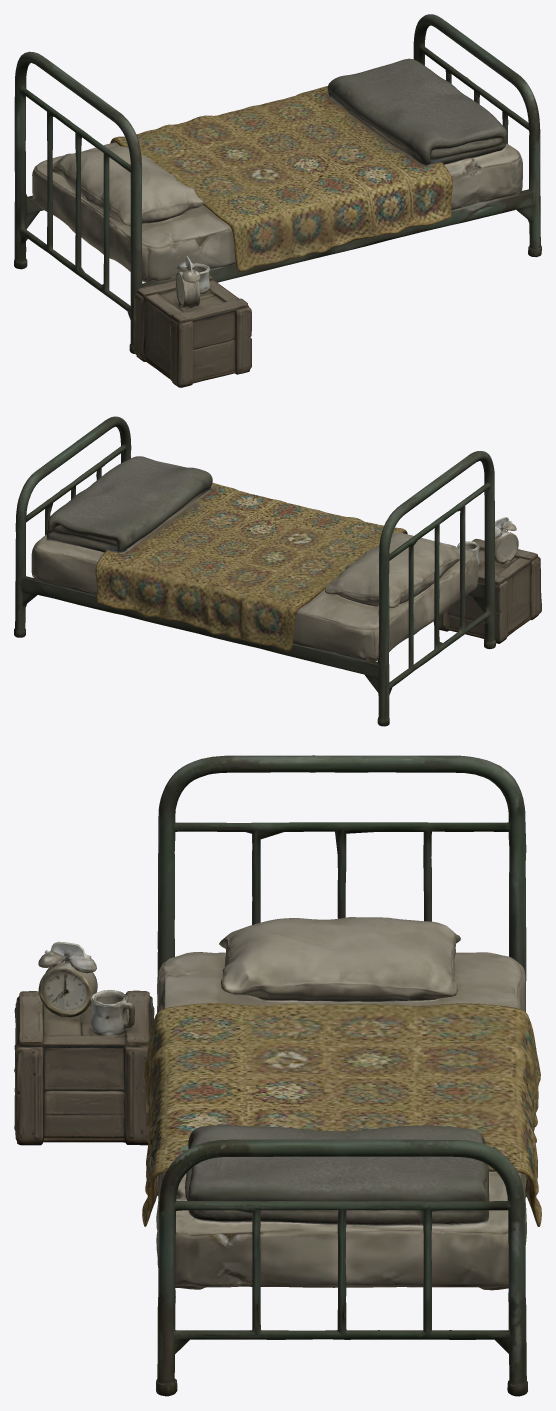
The model's file is silo81_bed_player.glb.
The picture shows the model from 3 angles, top to bottom: view 1: azimuth 30°, elevation 25°; view 2: azimuth 150°, elevation 25°; view 3: azimuth 270°, elevation 25°; orthographic projection. The views are drawn at different scales.
Parts seen in each view (by area): view 1: tripo_node_1223e4af-a2e3-4a61-a090-3dd78ad5f2c2; view 2: tripo_node_1223e4af-a2e3-4a61-a090-3dd78ad5f2c2; view 3: tripo_node_1223e4af-a2e3-4a61-a090-3dd78ad5f2c2.
Boxes of the visible parts, x1,y1,x2,y2 form: tripo_node_1223e4af-a2e3-4a61-a090-3dd78ad5f2c2: (14,14,541,387); tripo_node_1223e4af-a2e3-4a61-a090-3dd78ad5f2c2: (14,416,541,726); tripo_node_1223e4af-a2e3-4a61-a090-3dd78ad5f2c2: (14,755,541,1396).
Size of the model in its own units: 0.9791 by 0.5116 by 0.7158.
Materials: 1 (1 with a texture image).
